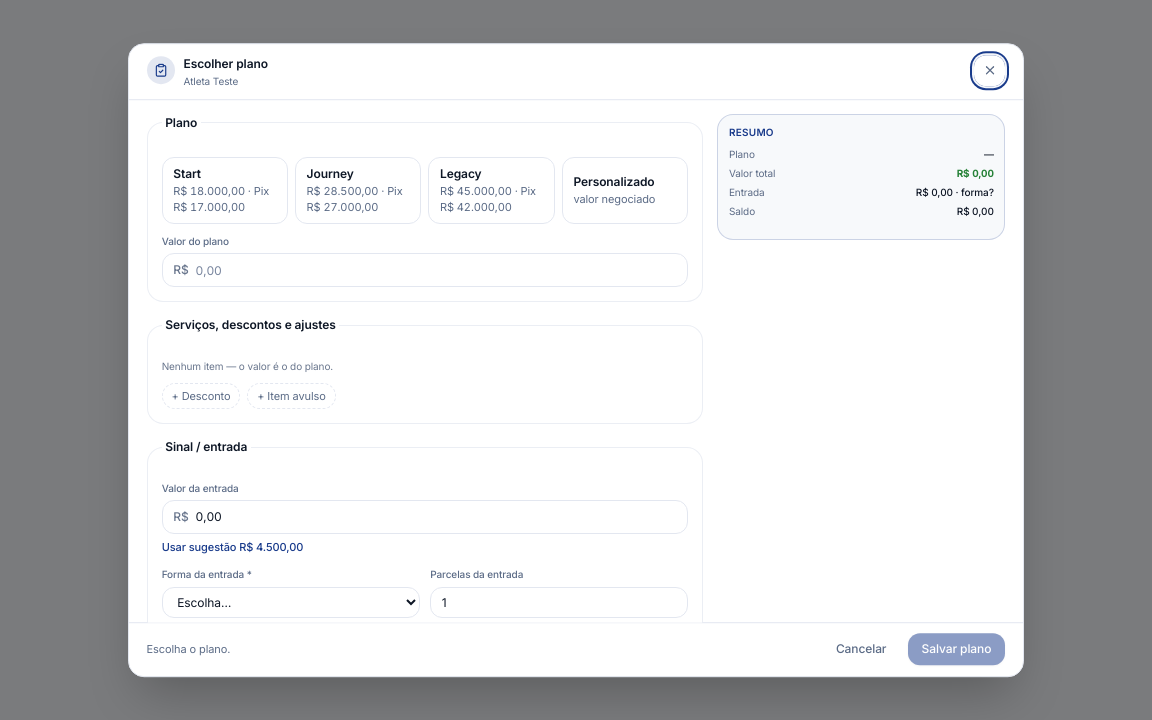
Scenario: Criar contrato pelo modal — botão, motivo e envio (T6) › valor fora da tabela pede justificativa (Regra 3) antes de liberar o botão
Click the radio button labelled "Journey R$ 28.500,00 · Pix R$ 27.000,00": (358, 190) [295,157,422,224]
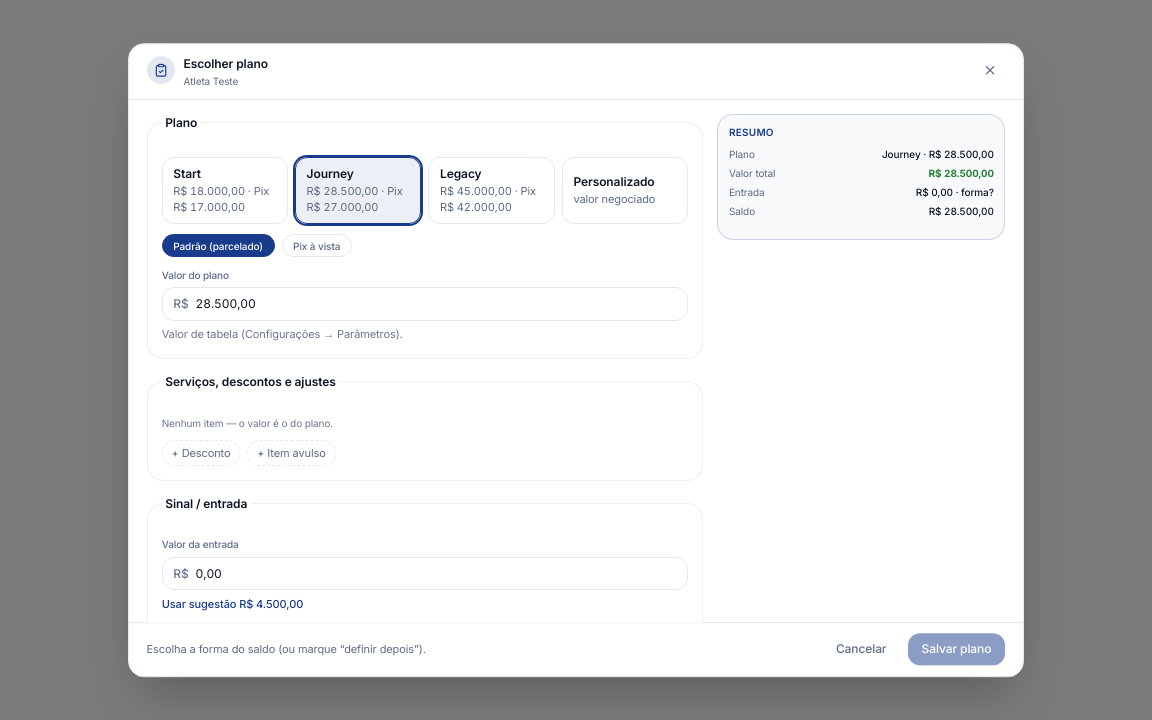
Replace the text in the field labelled "Valor do plano" with "25.000": (438, 304) [189,288,687,320]
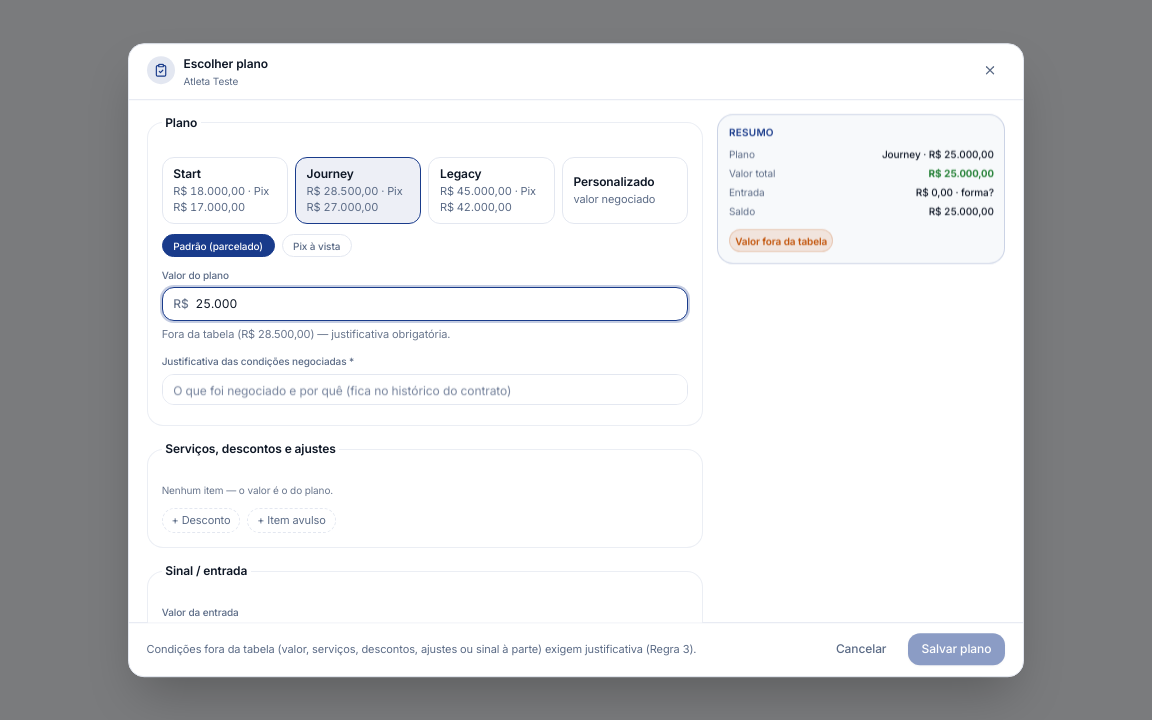
Press Tab
(page scrolled)
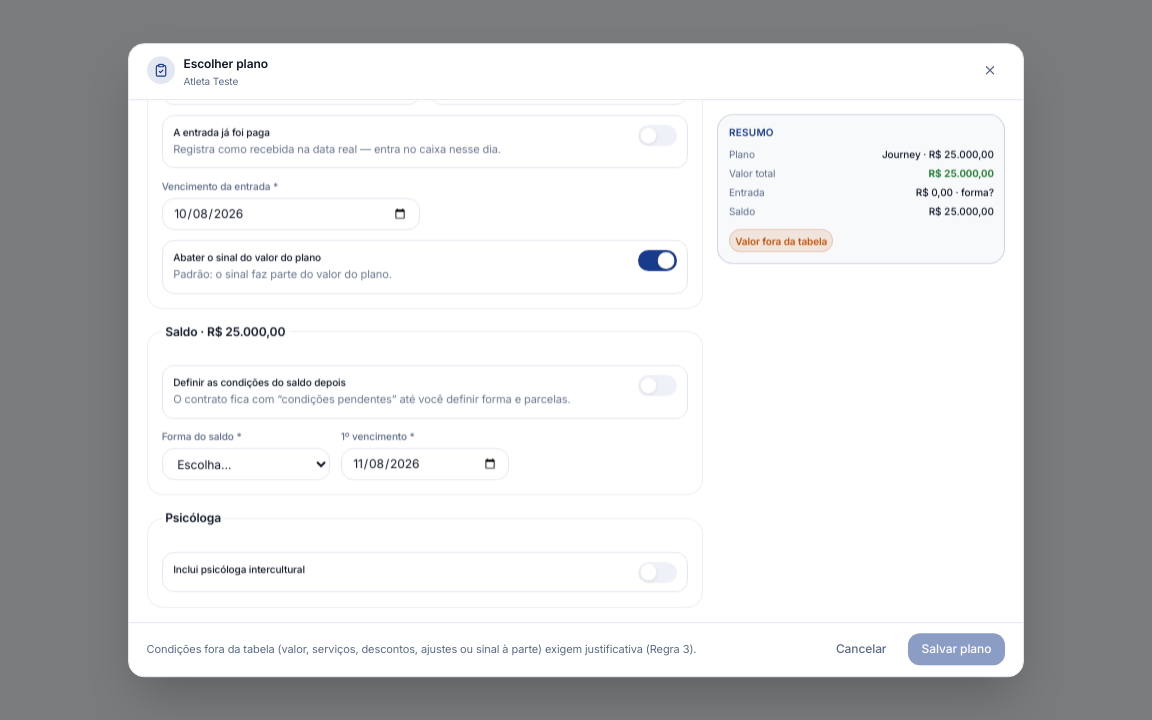
Select "Pix à vista" in the dropdown labelled "Forma do saldo *": (246, 464) [162,448,330,480]
(page scrolled)
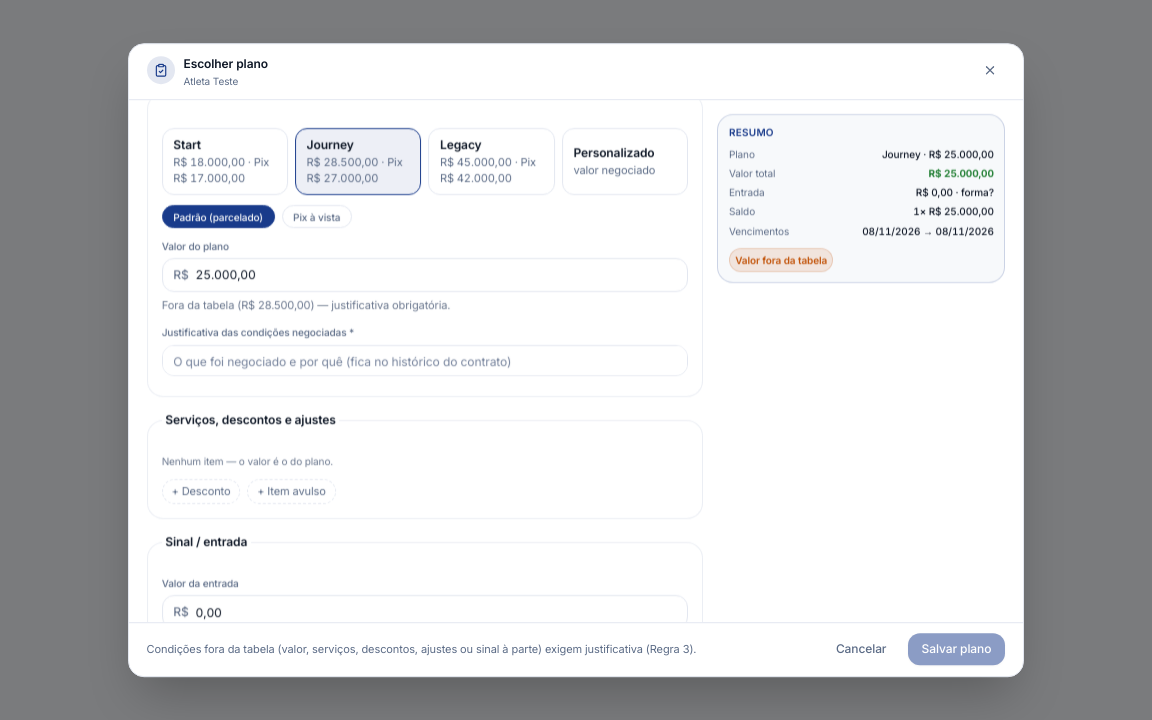
expect the button "Salvar plano" is disabled: met, box [908,634,1005,665]
In the text box labelled "Justificativa das condições negociadas *": (425, 361) [162,345,688,376], type "Desconto de irmão aprovado pelo CEO"
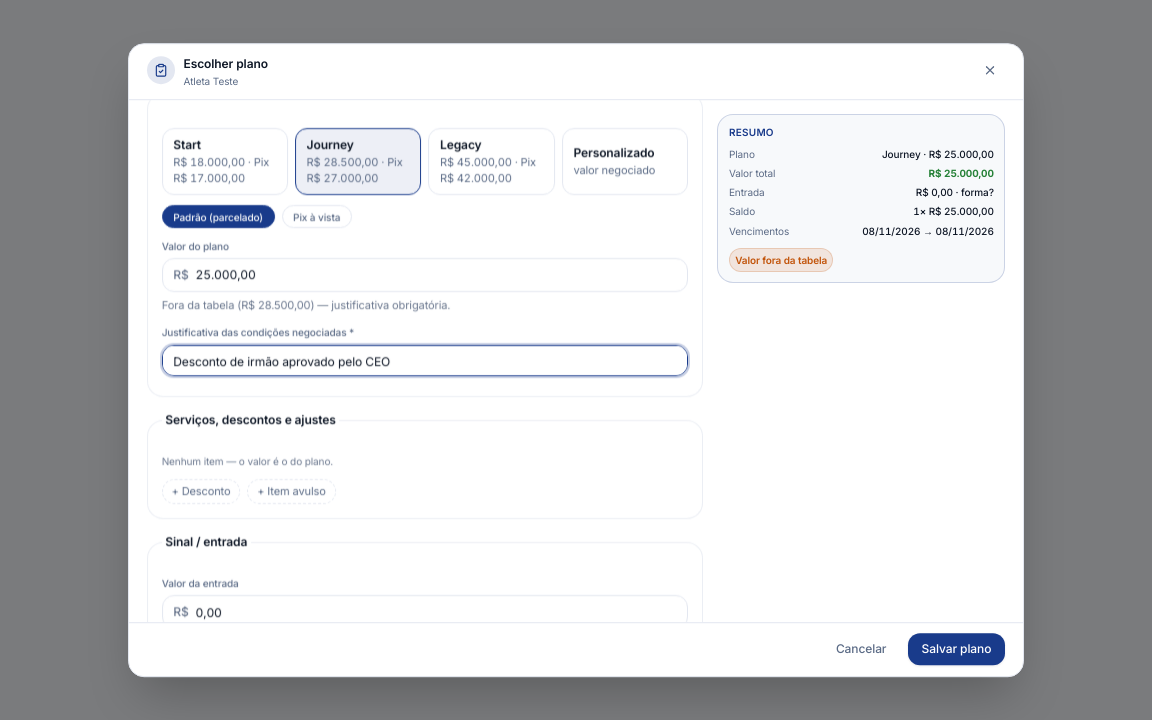
expect the button "Salvar plano" is enabled: met, box [908,634,1005,665]
